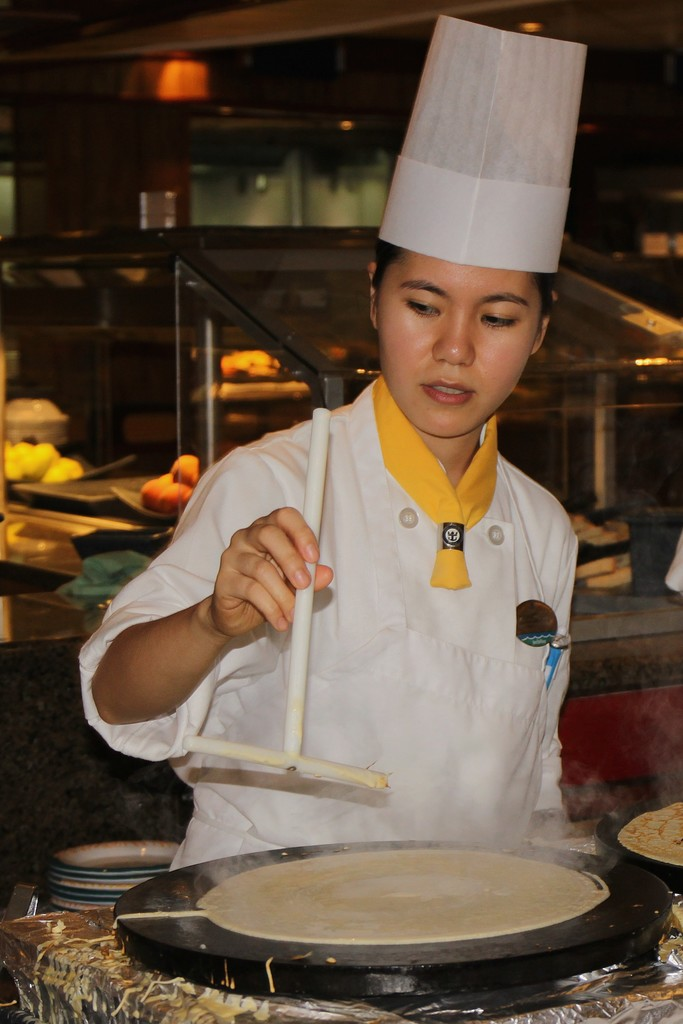Person: (79, 15, 586, 871)
